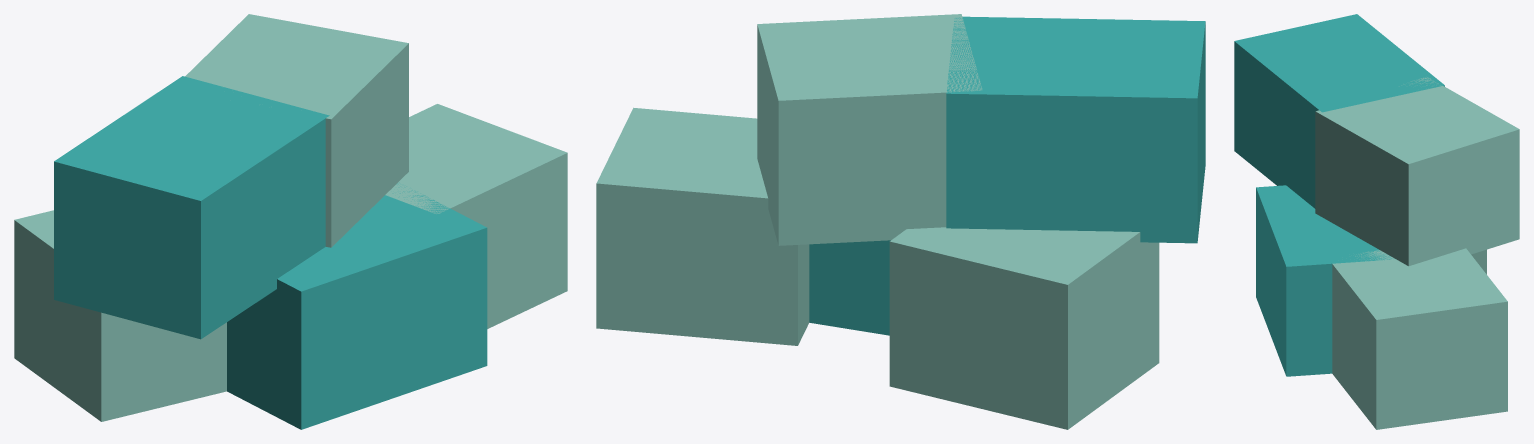
Rendered from story-prop.glb.
3 views of the same model, side by side, from view 1: azimuth 30°, elevation 25°; view 2: azimuth 150°, elevation 25°; view 3: azimuth 270°, elevation 25° (orthographic). The views are drawn at different scales.
Parts seen in each view (by area): view 1: crate_3, crate_1, crate_4, crate_2, crate_0; view 2: crate_3, crate_0, crate_4, crate_2, crate_1; view 3: crate_4, crate_2, crate_3, crate_1.
Boxes of the visible parts, <box> form: crate_3: <box>54,76,329,339</box>; crate_1: <box>227,182,487,429</box>; crate_4: <box>185,14,408,247</box>; crate_2: <box>385,104,567,328</box>; crate_0: <box>14,210,226,421</box>; crate_3: <box>946,16,1205,243</box>; crate_0: <box>889,227,1159,429</box>; crate_4: <box>757,14,982,245</box>; crate_2: <box>596,107,809,345</box>; crate_1: <box>809,240,890,335</box>; crate_4: <box>1315,77,1519,266</box>; crate_2: <box>1332,248,1507,429</box>; crate_3: <box>1234,14,1444,208</box>; crate_1: <box>1256,185,1395,376</box>.
Size of what is drawn, in the model's own units: 2.79 by 1.35 by 1.65.
